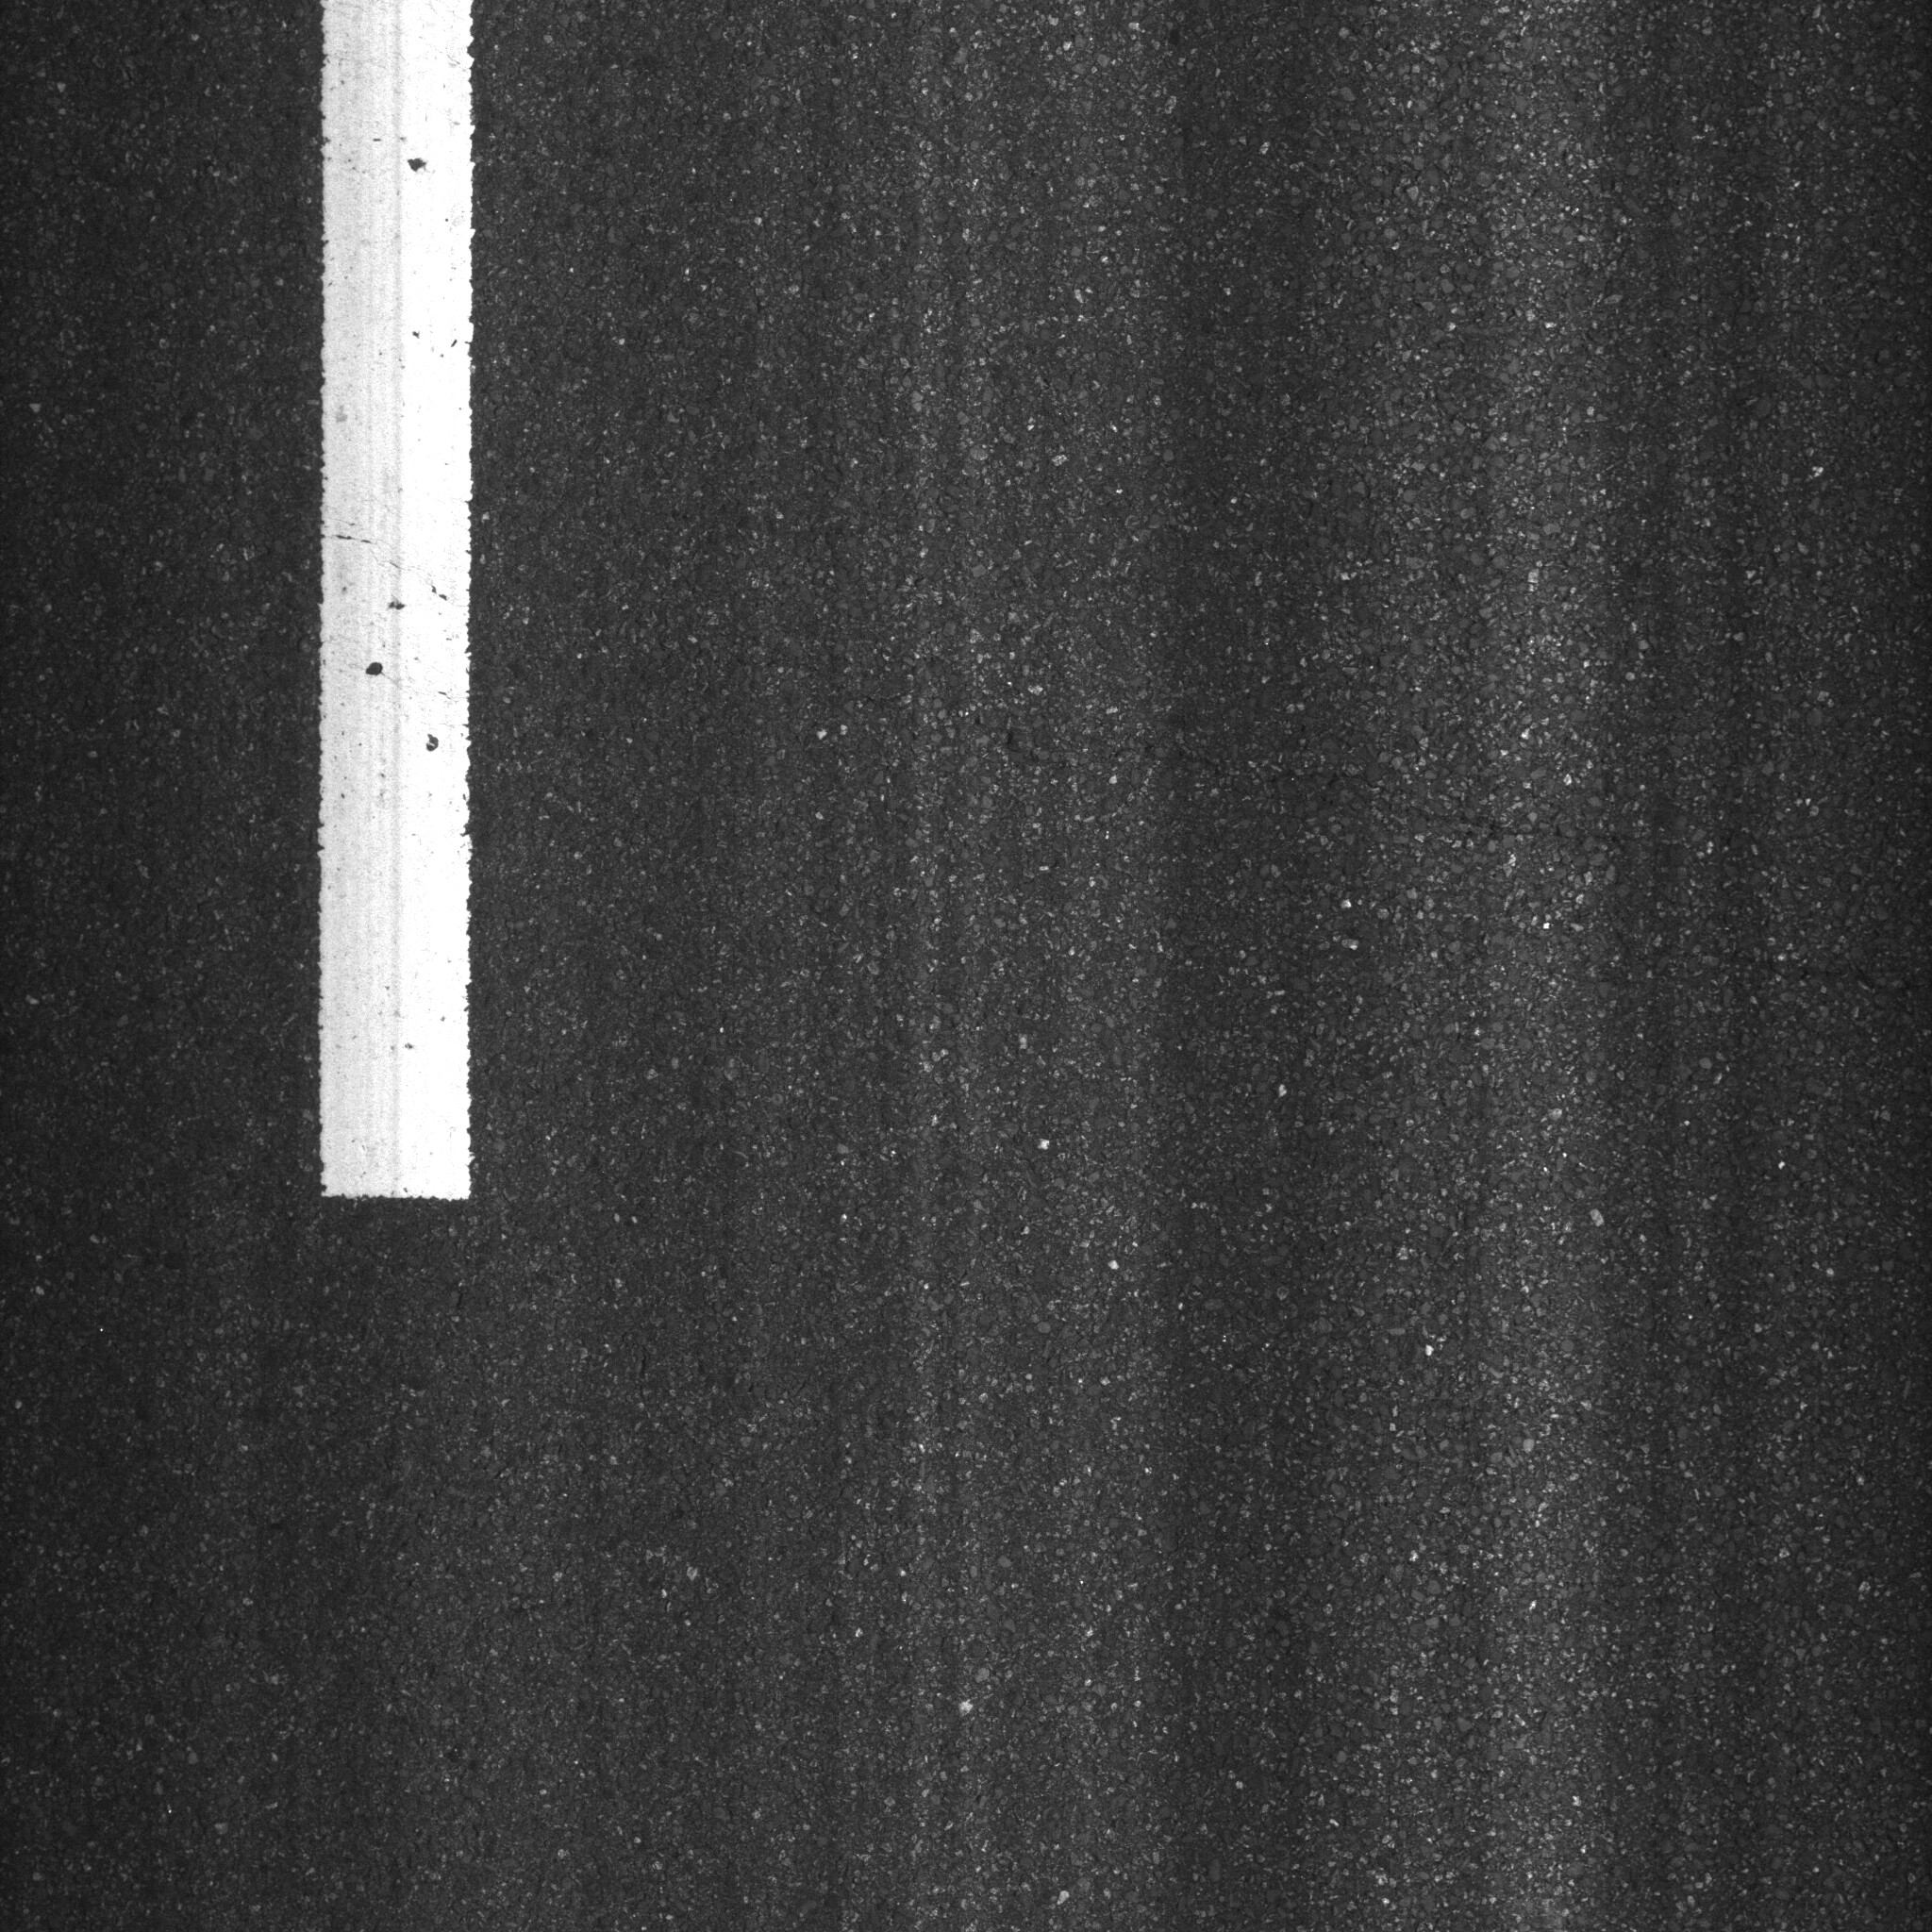transverse: (840, 674, 1890, 1017)
